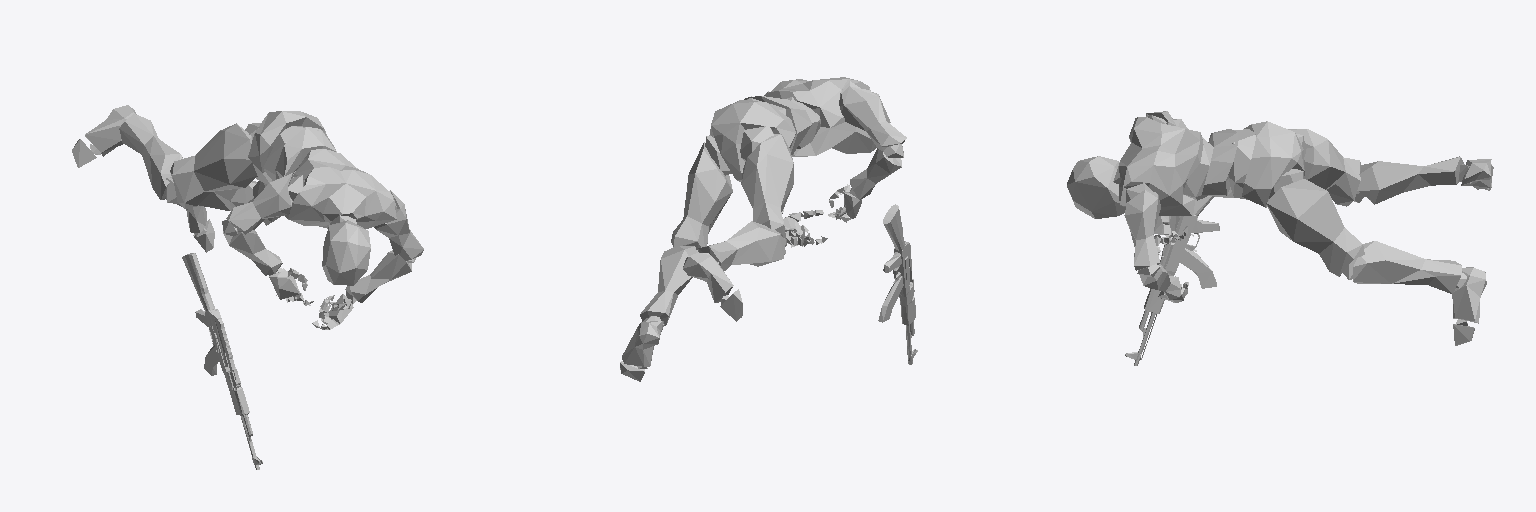
File: EnemyDying_000036.obj
3 renders of one model, left to right at view 1: azimuth 30°, elevation 25°; view 2: azimuth 150°, elevation 25°; view 3: azimuth 270°, elevation 25°, orthographic.
Parts seen in each view (by area): view 1: Alpha_Surface, AK-47_Cube, Alpha_Joints; view 2: Alpha_Surface, AK-47_Cube, Alpha_Joints; view 3: Alpha_Surface, Alpha_Joints, AK-47_Cube.
Part boxes in pixels (left/top/right/bottom): Alpha_Surface: left=72, top=105, right=423, bottom=329; AK-47_Cube: left=182, top=253, right=262, bottom=469; Alpha_Joints: left=90, top=123, right=416, bottom=329; Alpha_Surface: left=620, top=77, right=906, bottom=381; AK-47_Cube: left=878, top=204, right=917, bottom=364; Alpha_Joints: left=637, top=81, right=903, bottom=368; Alpha_Surface: left=1067, top=111, right=1493, bottom=345; Alpha_Joints: left=1113, top=115, right=1488, bottom=325; AK-47_Cube: left=1125, top=196, right=1219, bottom=365.
Bounding box in the file's own units: 167 × 232 × 311.